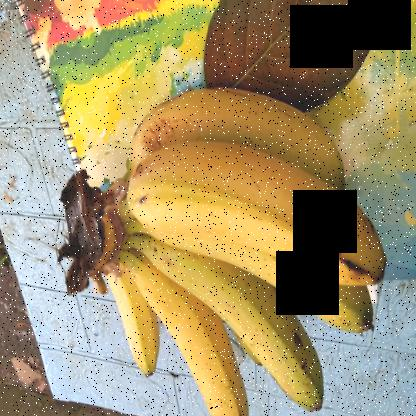freshripe: (127, 85, 357, 198), (145, 270, 259, 415)
ripe: (126, 141, 392, 295)
